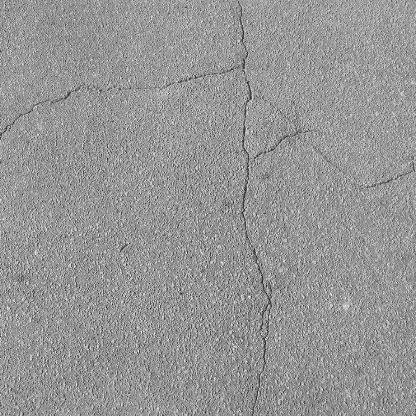pothole: (0, 58, 247, 171), (229, 0, 271, 416), (245, 124, 416, 207)
